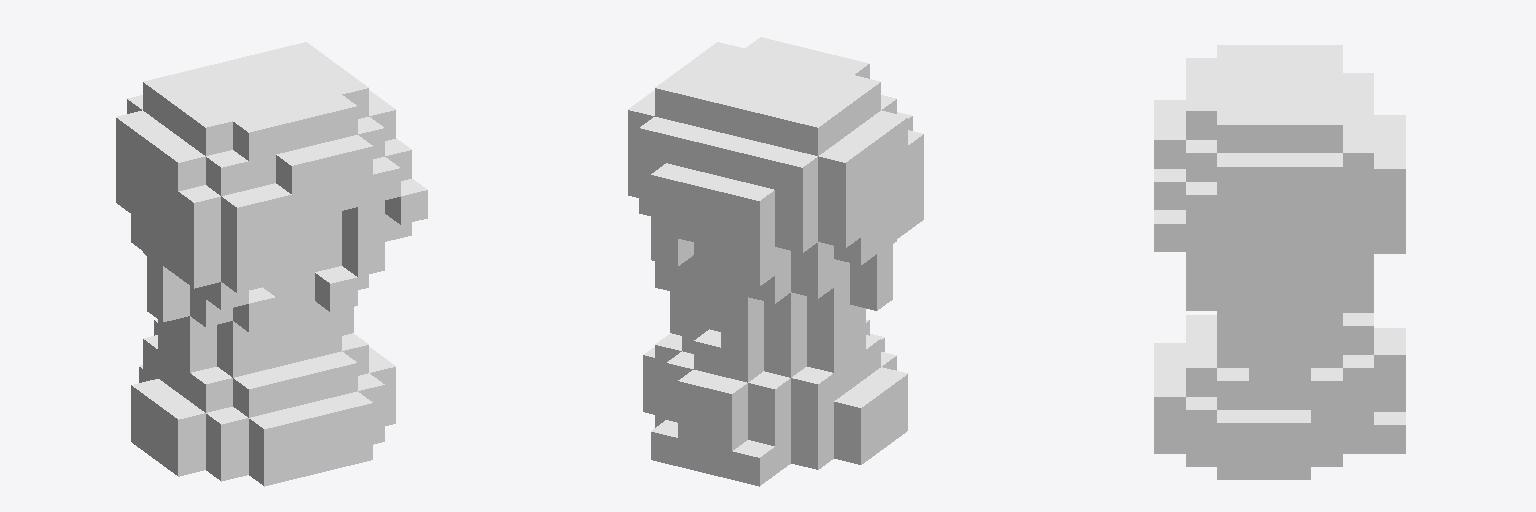
Rendered from MageBody.obj.
3 renders of one model, left to right at view 1: azimuth 30°, elevation 25°; view 2: azimuth 150°, elevation 25°; view 3: azimuth 270°, elevation 25°, orthographic.
Bounding box in the file's own units: 8 × 12 × 8.